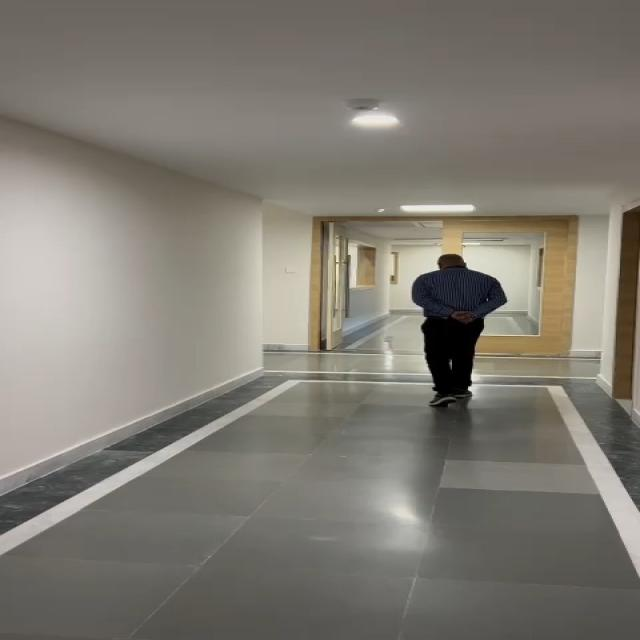floor: (0, 494, 640, 640), (259, 338, 407, 493), (411, 423, 640, 500)
moving_object: (406, 245, 505, 419)
wall: (3, 120, 277, 392)
